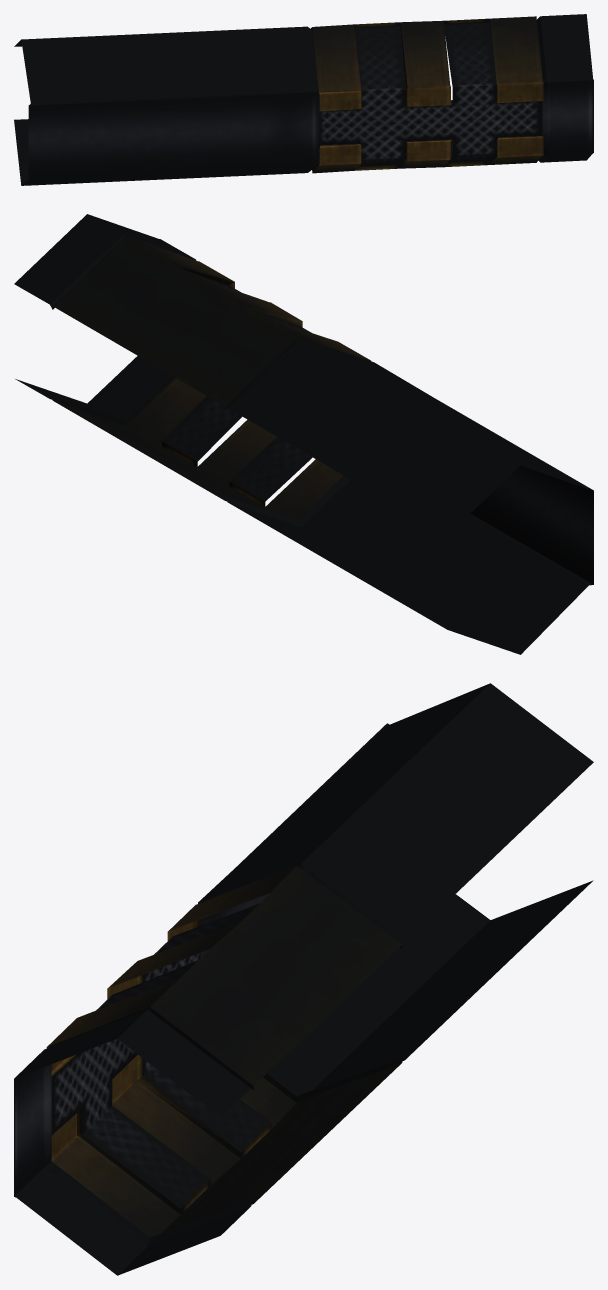
The model's file is v_rock_2.obj.
3 renders of one model, top to bottom at view 1: azimuth 30°, elevation 25°; view 2: azimuth 150°, elevation 25°; view 3: azimuth 270°, elevation 25°, orthographic. The views are drawn at different scales.
Size of the model in its own units: 18.85 by 5.28 by 11.71.
Materials: 1 (1 with a texture image).
